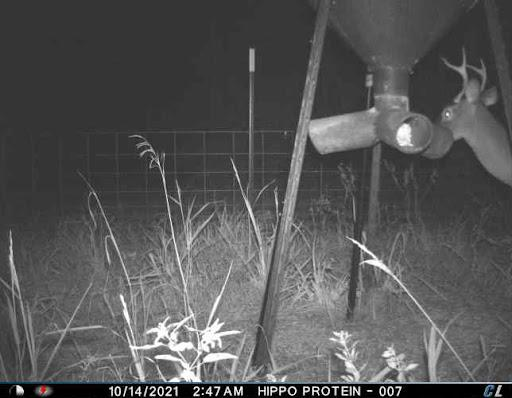Deer: (434, 41, 512, 194)
